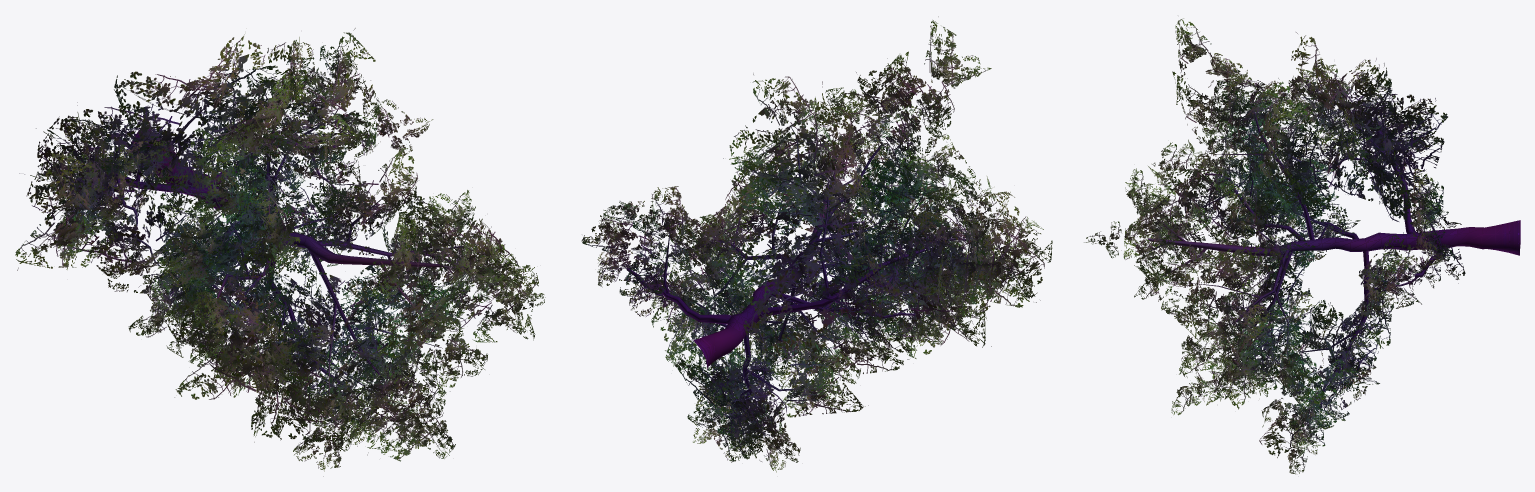
File: oak_big_oak_tree_003_lod1.glb
3 renders of one model, left to right at view 1: azimuth 30°, elevation 25°; view 2: azimuth 150°, elevation 25°; view 3: azimuth 270°, elevation 25°, orthographic. The views are drawn at different scales.
Parts seen in each view (by area): view 1: Big_oak_tree__003_LOD1; view 2: Big_oak_tree__003_LOD1; view 3: Big_oak_tree__003_LOD1.
Part boxes in pixels (x1,y1,x2,y2): Big_oak_tree__003_LOD1: (15,28,545,476); Big_oak_tree__003_LOD1: (581,16,1052,472); Big_oak_tree__003_LOD1: (1084,18,1520,474).
Bounding box in the file's own units: 19.08 × 19.1 × 19.21.
Materials: 2 (2 with a texture image).
